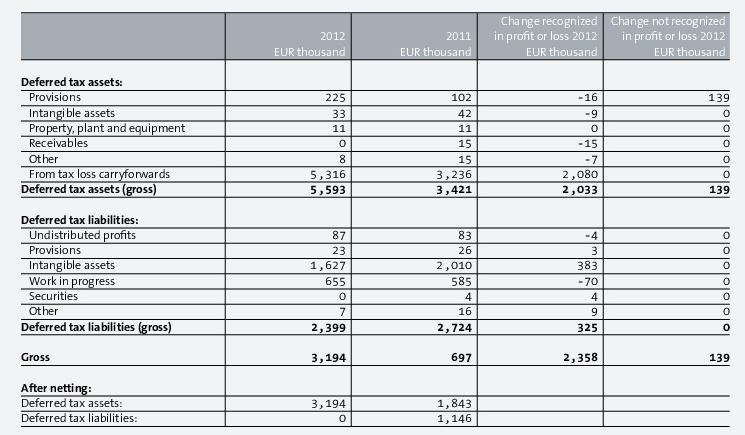table: (0, 0, 745, 435)
